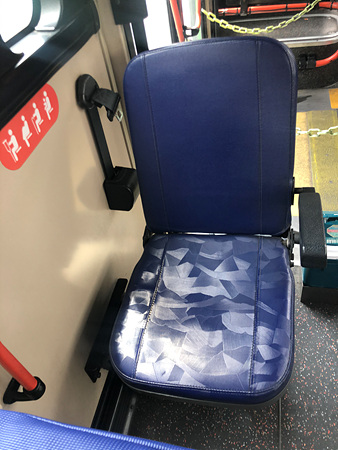seat: (112, 36, 294, 389)
